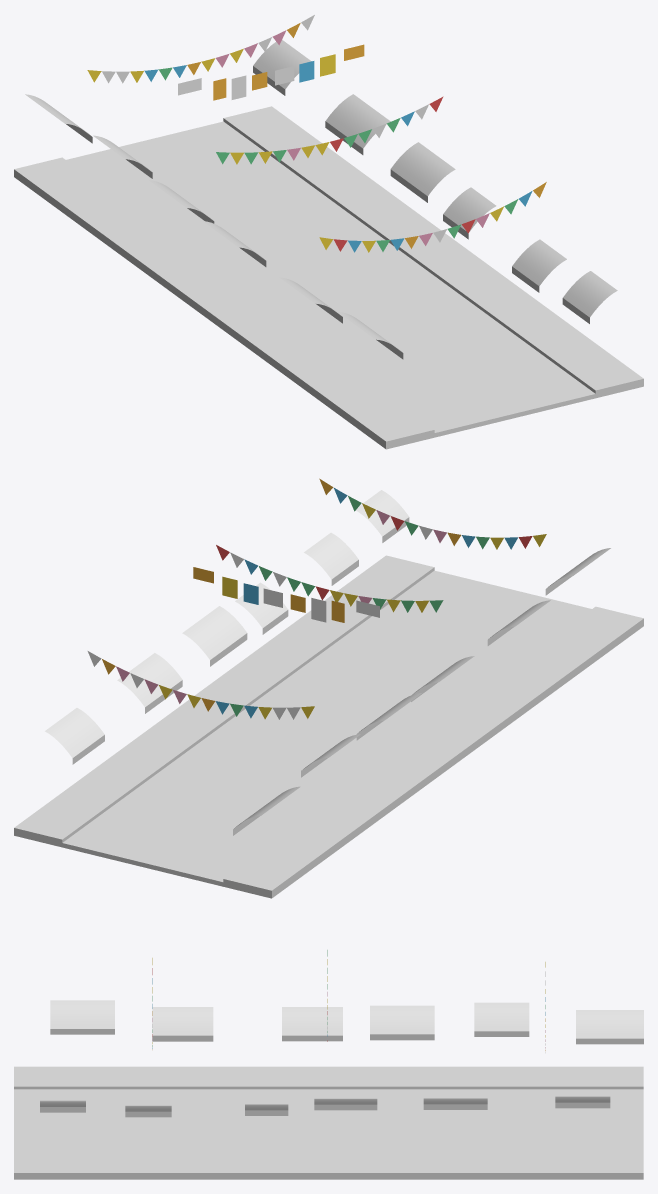
The model's file is Harita_03_Mahalle_Bakircilar_Ozel.fbx.
3 renders of one model, top to bottom at view 1: azimuth 30°, elevation 25°; view 2: azimuth 150°, elevation 25°; view 3: azimuth 270°, elevation 25°, orthographic. The views are drawn at different scales.
Parts seen in each view (by area): view 1: Harita_03_Yol.001, Harita_03_Kaldirim_L.001, Harita_03_Kaldirim_R.001, Camasirlar.010, Tente.158, Tente.159, Bayraklar.039, Bayraklar.040, Bayraklar.038, Tente.156, Tente.155, Tente.160 (+1 smaller); view 2: Harita_03_Yol.001, Harita_03_Kaldirim_L.001, Harita_03_Kaldirim_R.001, Camasirlar.010, Tente.158, Tente.159, Tente.160, Bayraklar.040, Bayraklar.038, Bayraklar.039, Tente.156, Tente.155 (+1 smaller); view 3: Harita_03_Yol.001, Harita_03_Kaldirim_R.001, Harita_03_Kaldirim_L.001, Tente.154, Tente.152, Tente.149, Tente.150, Tente.151, Tente.153, Tente.158, Tente.159, Tente.160 (+3 smaller).
Boxes of the visible parts, x1,y1,x2,y2 form: Harita_03_Yol.001: (66, 121, 595, 437); Harita_03_Kaldirim_L.001: (14, 157, 434, 449); Harita_03_Kaldirim_R.001: (223, 106, 643, 398); Camasirlar.010: (178, 44, 364, 100); Tente.158: (390, 142, 455, 202); Tente.159: (325, 94, 390, 154); Bayraklar.039: (216, 96, 443, 164); Bayraklar.040: (87, 15, 314, 83); Bayraklar.038: (319, 182, 546, 252); Tente.156: (512, 239, 566, 292); Tente.155: (562, 271, 617, 323); Tente.160: (253, 40, 311, 95); Harita_03_Yol.001: (62, 570, 591, 886); Harita_03_Kaldirim_L.001: (223, 606, 643, 898); Harita_03_Kaldirim_R.001: (14, 555, 434, 847); Camasirlar.010: (193, 567, 379, 622); Tente.158: (182, 606, 247, 666); Tente.159: (117, 653, 182, 713); Tente.160: (45, 708, 104, 764); Bayraklar.040: (87, 651, 314, 719); Bayraklar.038: (319, 478, 546, 549); Bayraklar.039: (216, 545, 443, 612); Tente.156: (304, 532, 358, 585); Tente.155: (356, 490, 409, 542); Harita_03_Yol.001: (14, 1089, 643, 1152); Harita_03_Kaldirim_R.001: (14, 1153, 643, 1179); Harita_03_Kaldirim_L.001: (14, 1066, 643, 1089); Tente.154: (576, 1010, 643, 1044); Tente.152: (370, 1005, 434, 1040); Tente.149: (50, 1000, 114, 1034); Tente.150: (152, 1007, 213, 1041); Tente.151: (282, 1007, 342, 1041); Tente.153: (474, 1002, 529, 1036); Tente.158: (314, 1098, 377, 1110); Tente.159: (423, 1098, 487, 1109); Tente.160: (555, 1096, 610, 1108).
Size of the model in its own units: 12 by 8.27 by 30.01.
